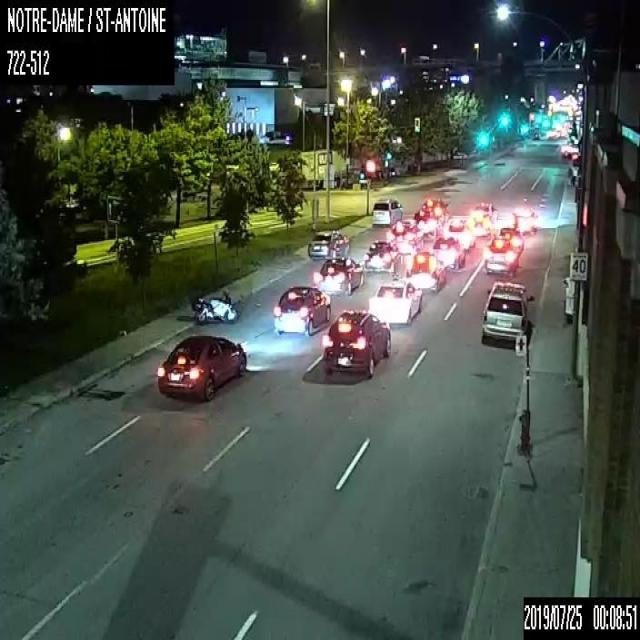vehicle: (156, 334, 247, 402), (322, 309, 390, 376), (479, 279, 533, 344), (273, 285, 330, 336), (367, 279, 421, 324), (318, 257, 363, 295), (405, 252, 444, 291), (483, 237, 518, 275), (307, 230, 348, 262), (191, 294, 237, 322), (364, 240, 402, 273), (432, 236, 464, 271), (444, 218, 474, 250), (390, 222, 423, 251), (370, 197, 402, 225), (495, 226, 523, 253), (512, 206, 536, 232), (418, 214, 442, 238), (422, 198, 449, 219), (470, 201, 497, 219), (469, 214, 488, 236)
